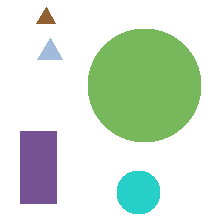circle: (88, 29, 200, 141), (117, 171, 159, 213)
rectangle: (20, 131, 56, 203)
triangle: (37, 38, 62, 59), (36, 7, 55, 23)
